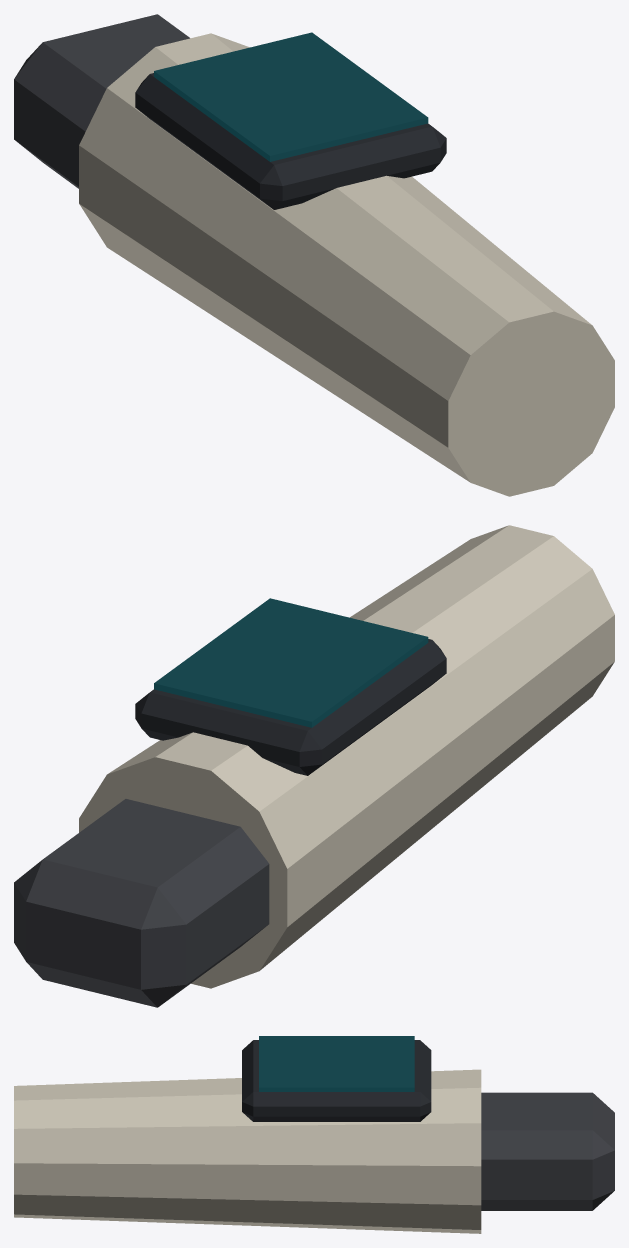
Rendered from forearm.glb.
The picture shows the model from 3 angles, top to bottom: view 1: azimuth 30°, elevation 25°; view 2: azimuth 150°, elevation 25°; view 3: azimuth 270°, elevation 25°; orthographic projection. The views are drawn at different scales.
Parts seen in each view (by area): view 1: forearm; view 2: forearm; view 3: forearm.
Part boxes in pixels (box(x1,y1,x2,y2)): forearm: box(14, 14, 614, 496); forearm: box(14, 525, 614, 1007); forearm: box(14, 1036, 614, 1233).
Size of the model in its own units: 0.1449 by 0.1614 by 0.54.
